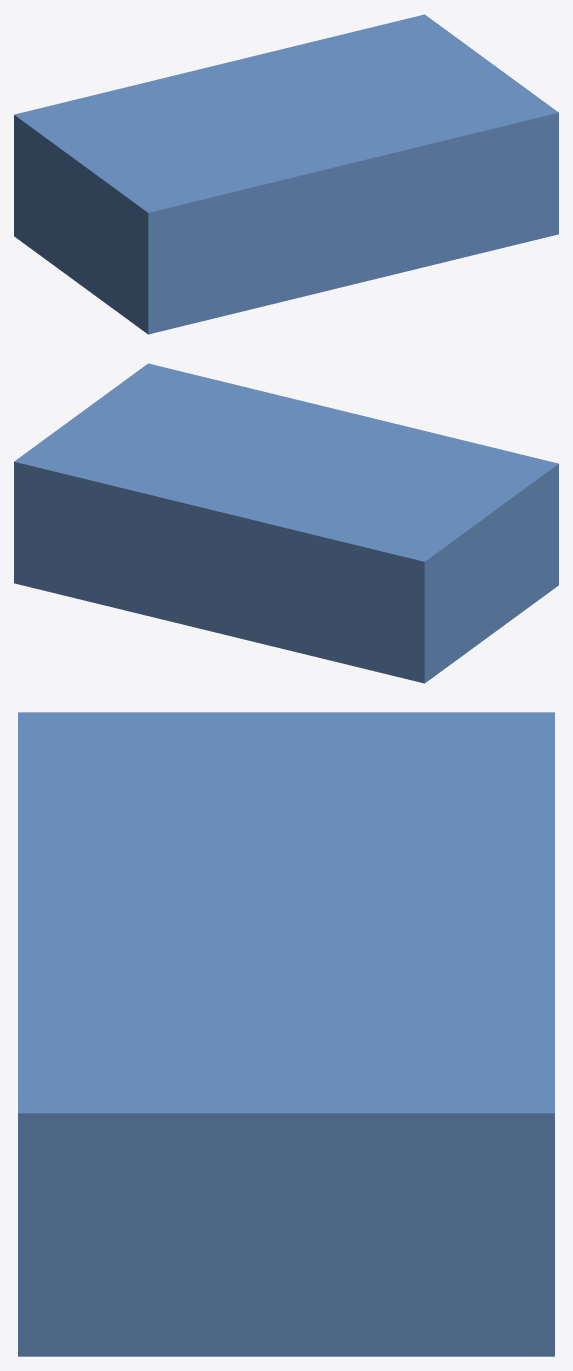
File: fazendeiro_cintura.glb
The picture shows the model from 3 angles, top to bottom: view 1: azimuth 30°, elevation 25°; view 2: azimuth 150°, elevation 25°; view 3: azimuth 270°, elevation 25°; orthographic projection. The views are drawn at different scales.
Parts seen in each view (by area): view 1: fazendeiro_cintura; view 2: fazendeiro_cintura; view 3: fazendeiro_cintura.
Boxes of the visible parts, x1,y1,x2,y2 form: fazendeiro_cintura: [14, 14, 558, 334]; fazendeiro_cintura: [14, 363, 558, 683]; fazendeiro_cintura: [18, 712, 554, 1356].
Bounding box in the file's own units: 0.53 × 0.15 × 0.3.
